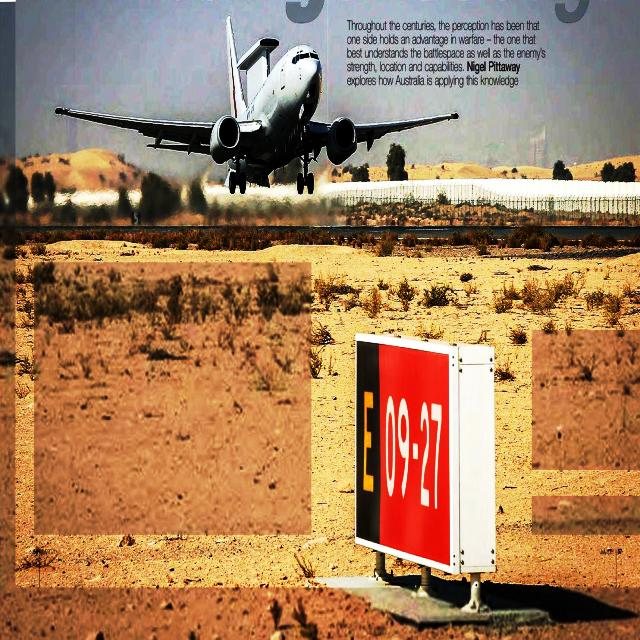Aircraft: (54, 14, 459, 196)
